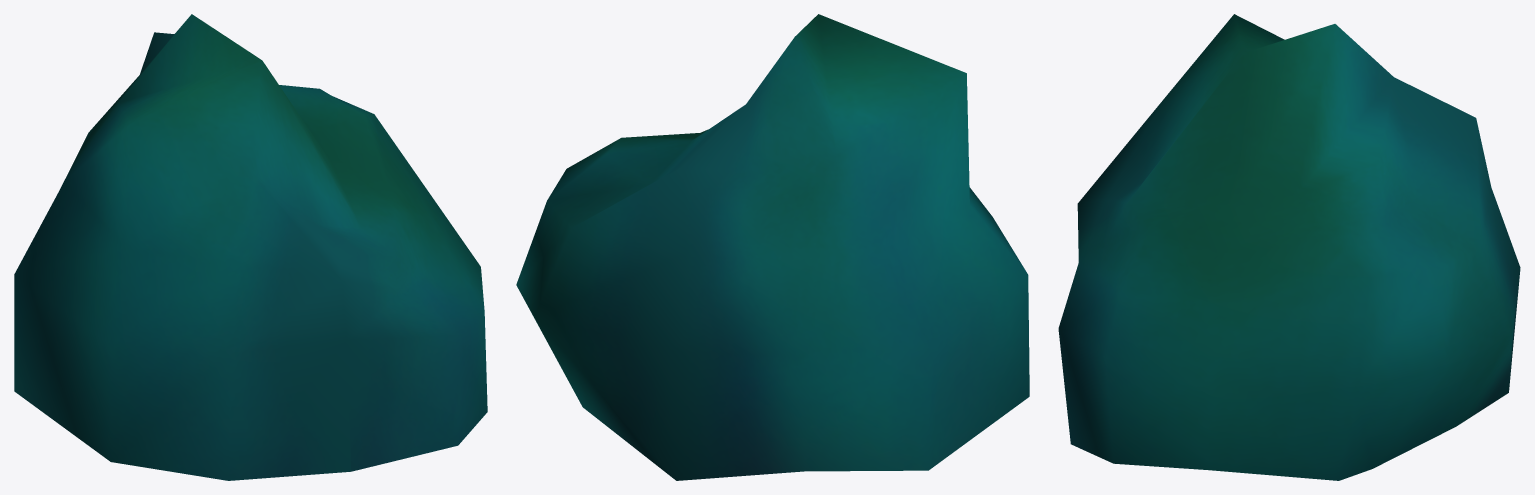
The model's file is boulder_02.fbx.
3 renders of one model, left to right at view 1: azimuth 30°, elevation 25°; view 2: azimuth 150°, elevation 25°; view 3: azimuth 270°, elevation 25°, orthographic. The views are drawn at different scales.
Parts seen in each view (by area): view 1: polySurface221; view 2: polySurface221; view 3: polySurface221.
Part boxes in pixels (x1,y1,x2,y2): polySurface221: (14, 14, 487, 480); polySurface221: (516, 14, 1029, 480); polySurface221: (1058, 14, 1520, 480).
Size of the model in its own units: 33.84 by 31.8 by 36.63.
